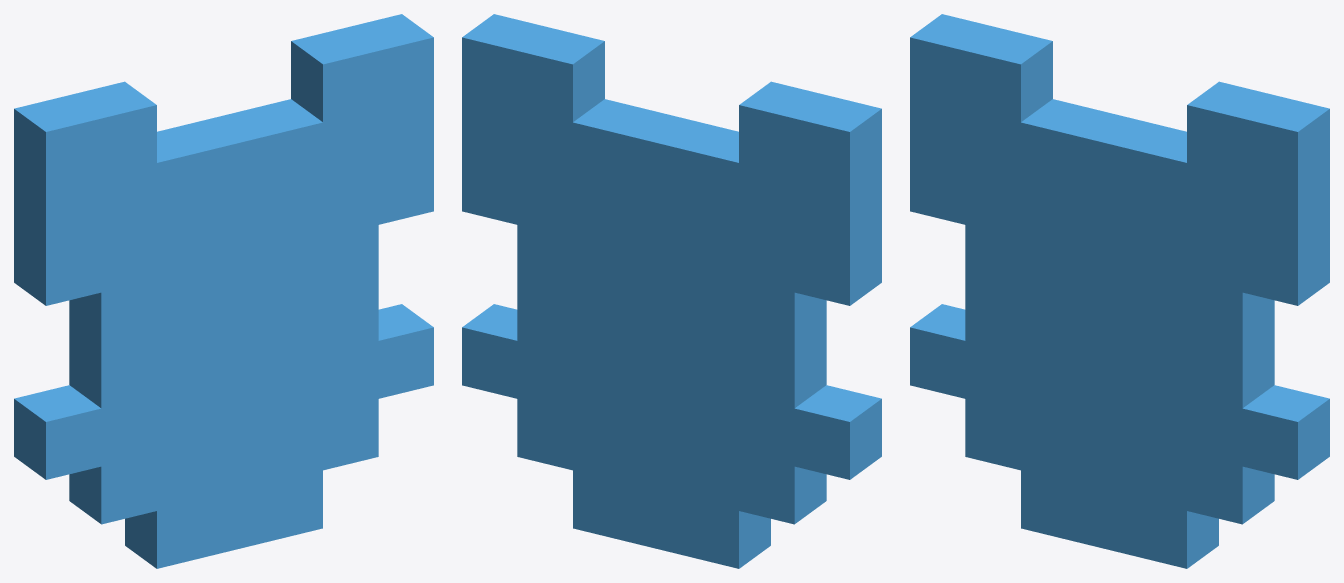
The model's file is Breastplate-Blue.vox.obj.
3 renders of one model, left to right at view 1: azimuth 30°, elevation 25°; view 2: azimuth 150°, elevation 25°; view 3: azimuth 330°, elevation 25°, orthographic.
Size of the model in its own units: 0.7 by 0.8 by 0.1.
1 material, 1 textured.
